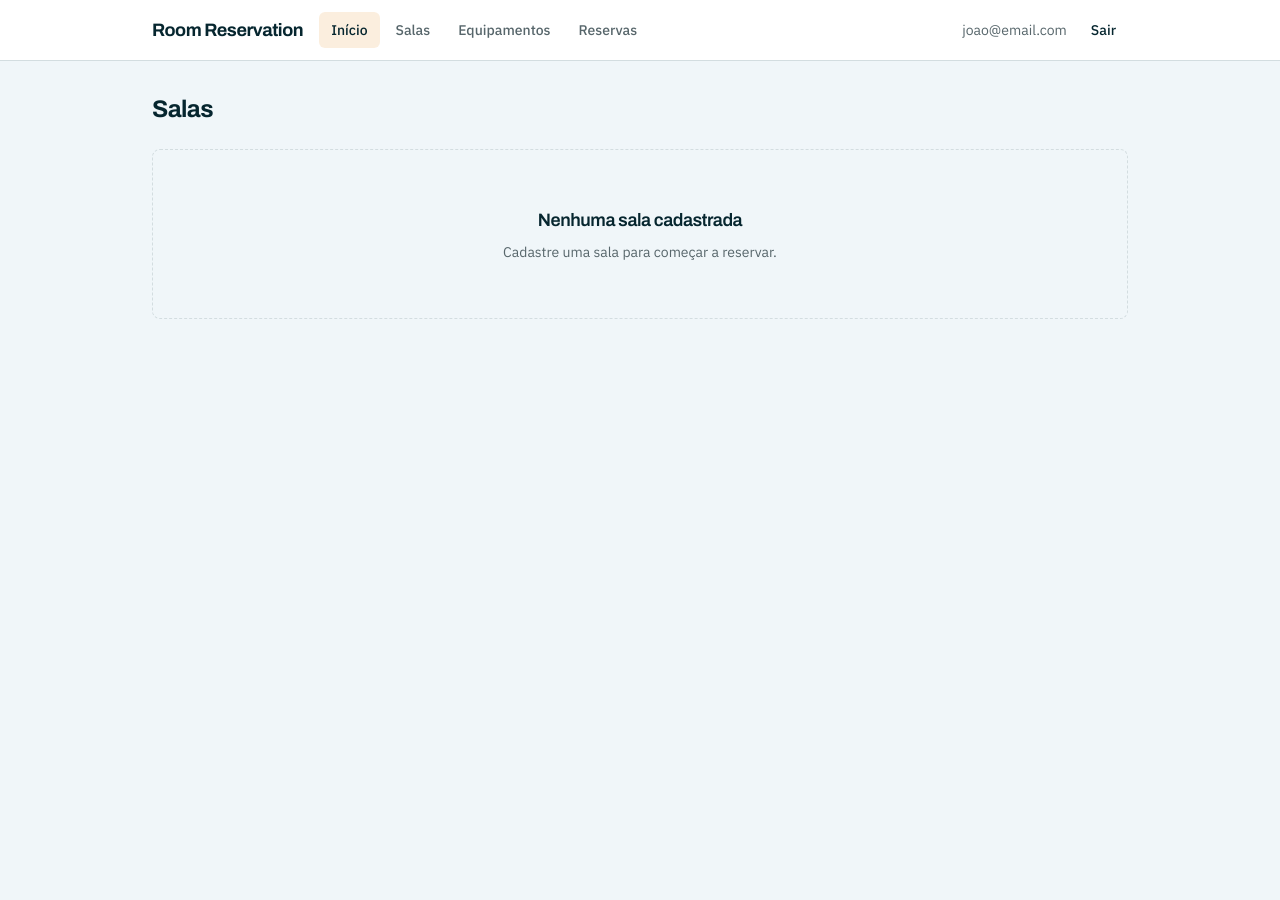
it: logout › limpa a sessao e devolve ao login
What coordinates should you click on to do the following:
click the button "Sair"
I would click on:
 (1103, 30)
Its box is left=1079, top=12, right=1128, bottom=48.
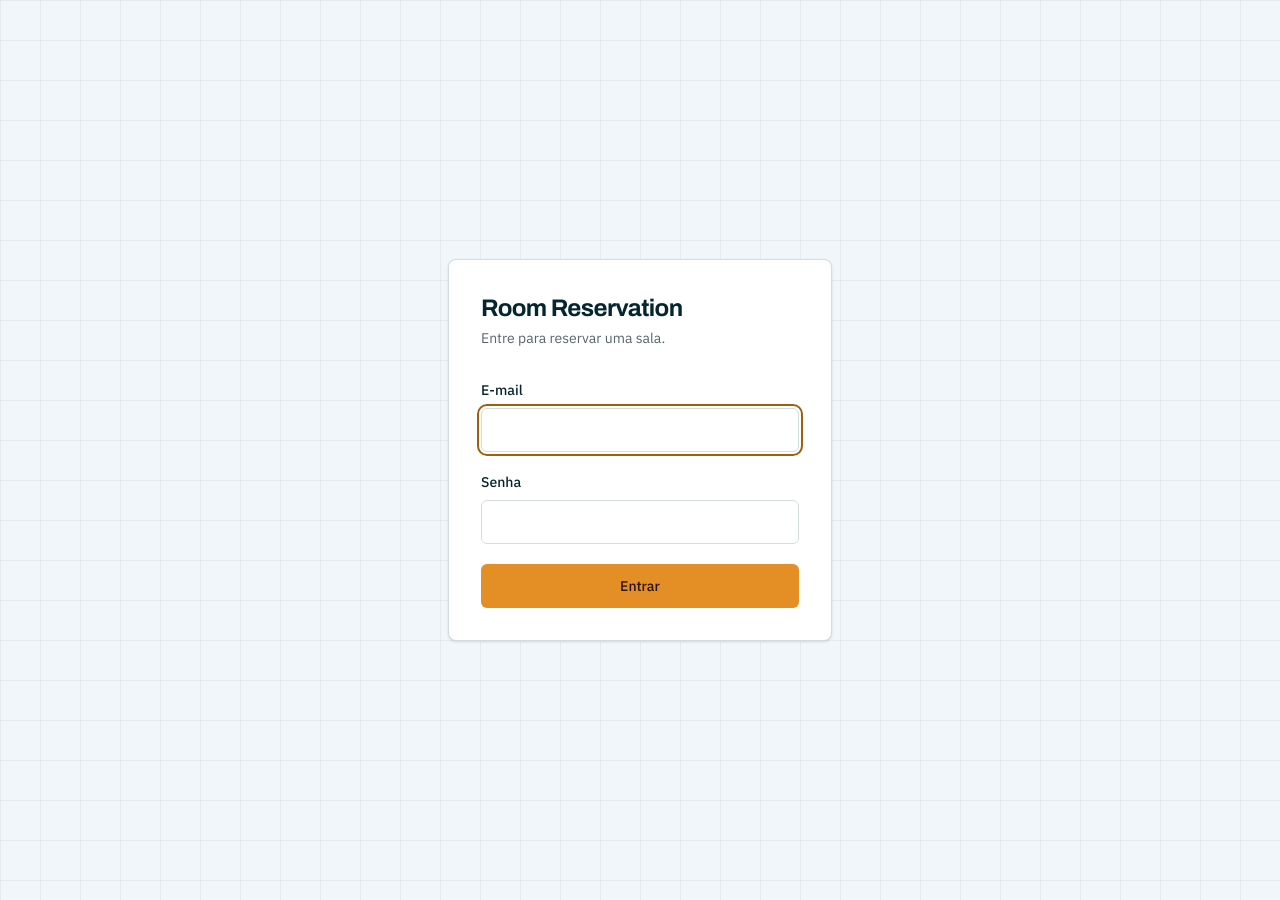
Now the password field labelled "Senha" is shown, box left=481, top=500, right=799, bottom=544
